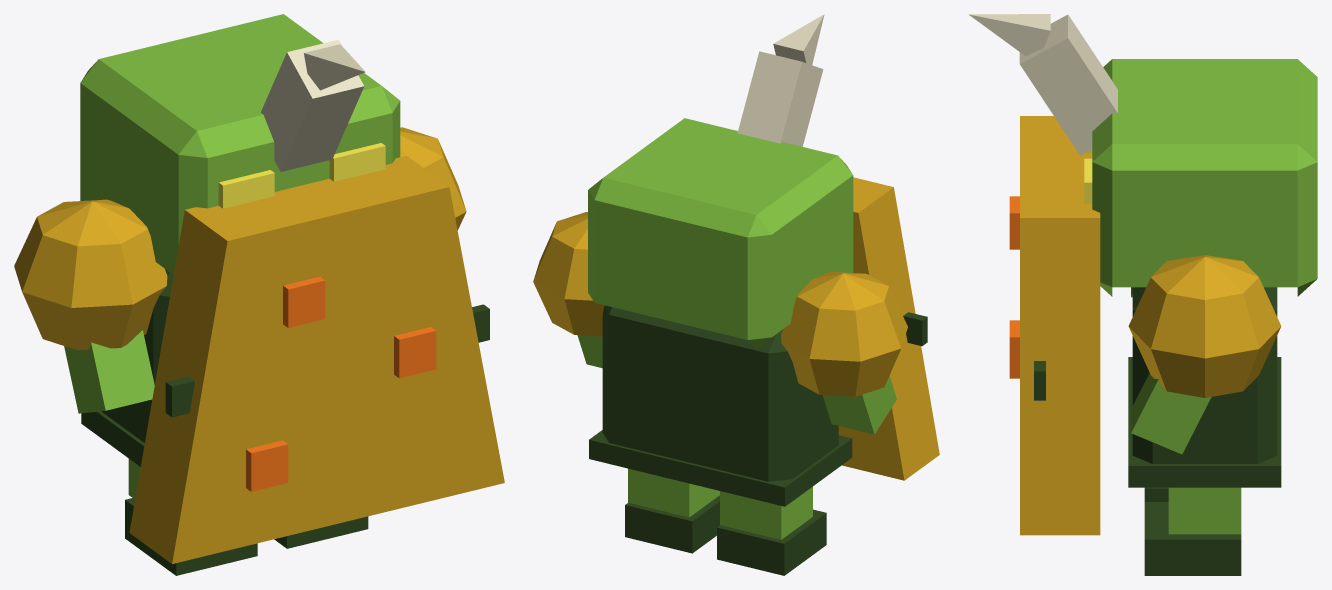
File: brute_r10.glb
The picture shows the model from 3 angles, left to right: view 1: azimuth 30°, elevation 25°; view 2: azimuth 150°, elevation 25°; view 3: azimuth 270°, elevation 25°; orthographic projection. The views are drawn at different scales.
Visible parts, largest first — view 1: brute_r10_mesh; view 2: brute_r10_mesh; view 3: brute_r10_mesh.
Part boxes in pixels (x1=…): brute_r10_mesh: x1=14, y1=14, x2=504, y2=575; brute_r10_mesh: x1=533, y1=14, x2=939, y2=575; brute_r10_mesh: x1=968, y1=14, x2=1317, y2=575.
Size of the model in its own units: 1.83 by 2.2 by 1.35.
Materials: 1 (1 with a texture image).
